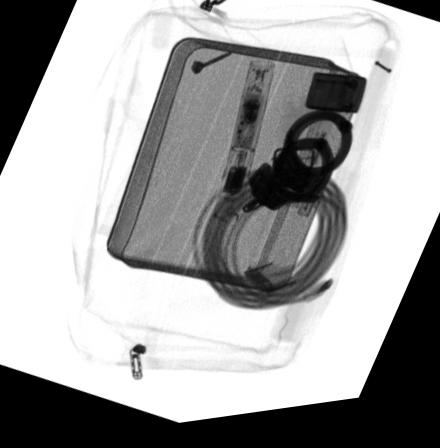Baton: (211, 67, 274, 229)
HandCuffs: (239, 118, 353, 221)
Lighter: (302, 80, 364, 122)
